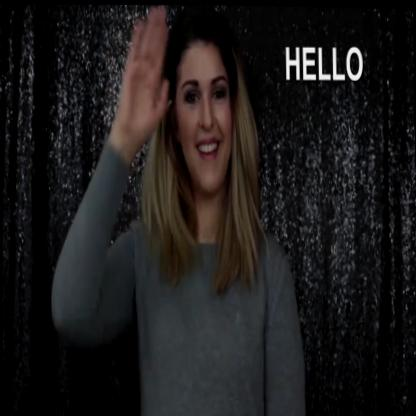Hello: (120, 4, 254, 240)
